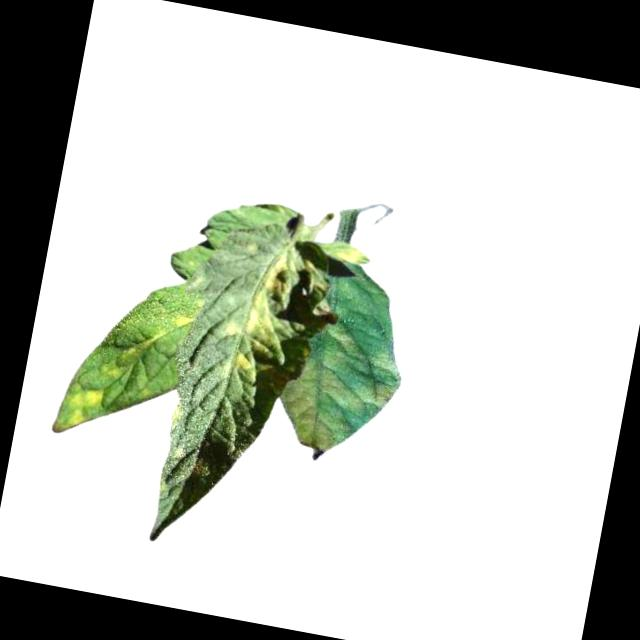Leaf_Mold: (271, 325, 405, 465), (213, 242, 307, 395), (63, 384, 105, 430)
